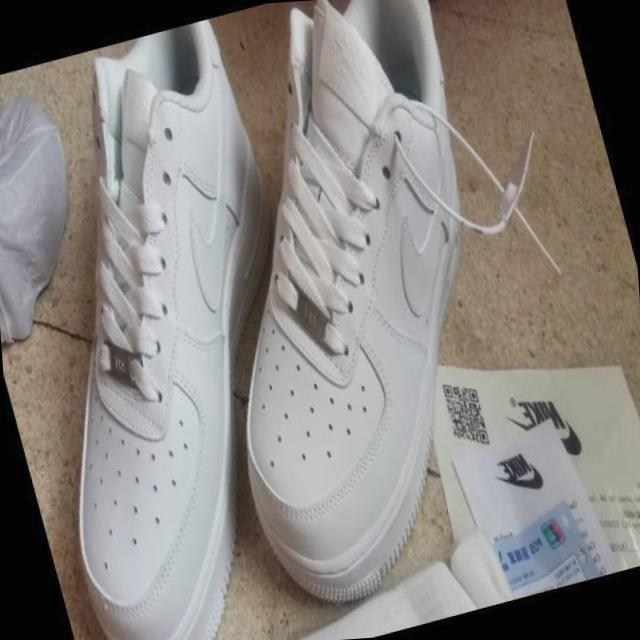nike_fake_airforce: (129, 0, 583, 635), (0, 6, 387, 640)
